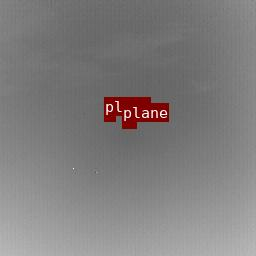plane: (122, 122, 136, 128), (104, 116, 115, 121)
